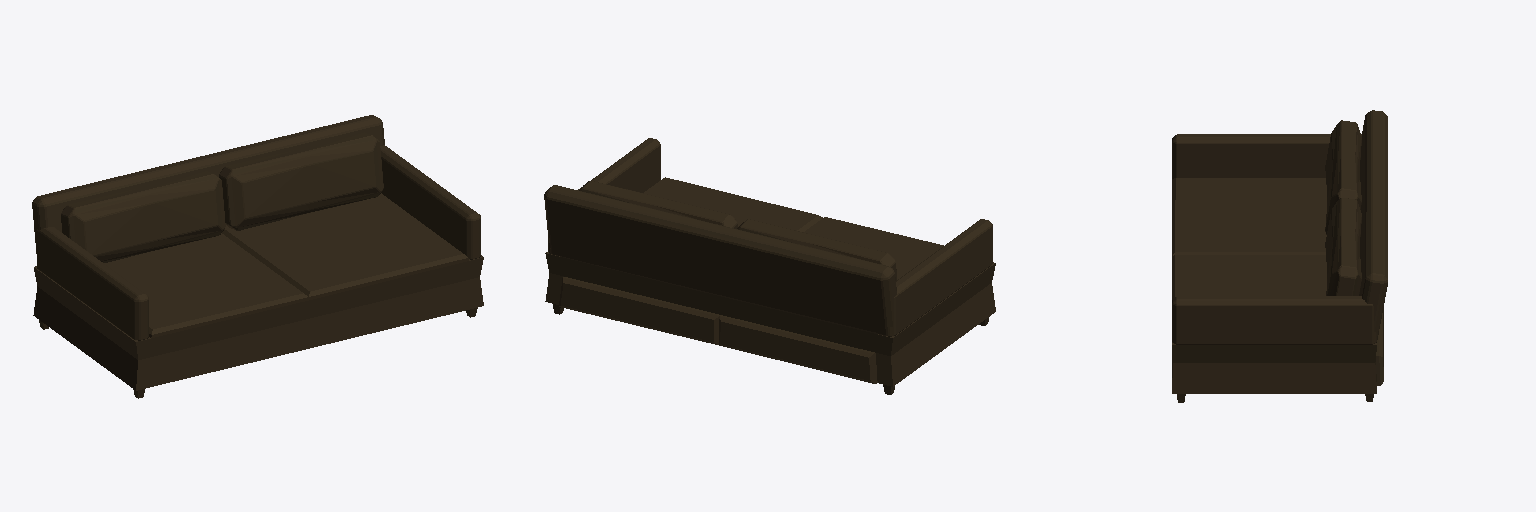
Rendered from TextureCouch.obj.
3 renders of one model, left to right at view 1: azimuth 30°, elevation 25°; view 2: azimuth 150°, elevation 25°; view 3: azimuth 270°, elevation 25°, orthographic.
Visible parts, largest first — view 1: pasted__pCube3; view 2: pasted__pCube3; view 3: pasted__pCube3.
Part boxes in pixels (x1,y1,x2,y2): pasted__pCube3: (32, 115, 483, 398); pasted__pCube3: (544, 138, 995, 394); pasted__pCube3: (1172, 110, 1387, 402).
Size of the model in its own units: 12.63 by 4.45 by 6.82.